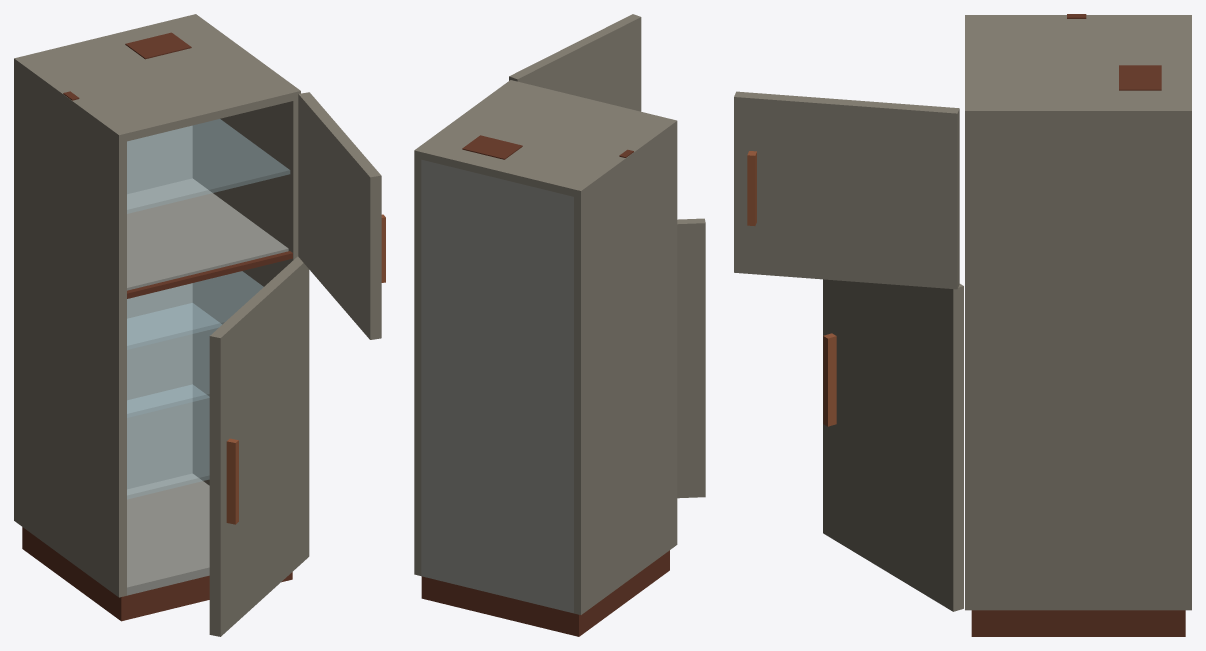
Rendered from GI_Fridge_Damaged_01.glb.
3 views of the same model, side by side, from view 1: azimuth 30°, elevation 25°; view 2: azimuth 150°, elevation 25°; view 3: azimuth 270°, elevation 25° (orthographic). The views are drawn at different scales.
Parts seen in each view (by area): view 1: GI_Fridge_Damaged_01, Door, DoorFreezer; view 2: GI_Fridge_Damaged_01, Door, DoorFreezer; view 3: GI_Fridge_Damaged_01, DoorFreezer, Door.
Part boxes in pixels (box(x1,y1,x2,y2)): GI_Fridge_Damaged_01: box(14, 14, 300, 621); Door: box(209, 256, 309, 636); DoorFreezer: box(298, 92, 385, 339); GI_Fridge_Damaged_01: box(414, 80, 677, 636); Door: box(677, 218, 705, 498); DoorFreezer: box(509, 14, 641, 111); GI_Fridge_Damaged_01: box(965, 14, 1191, 636); DoorFreezer: box(734, 91, 959, 289); Door: box(823, 279, 963, 611).
Bounding box in the file's own units: 0.7197 × 1.8 × 1.41.
2 materials, 2 textured.
